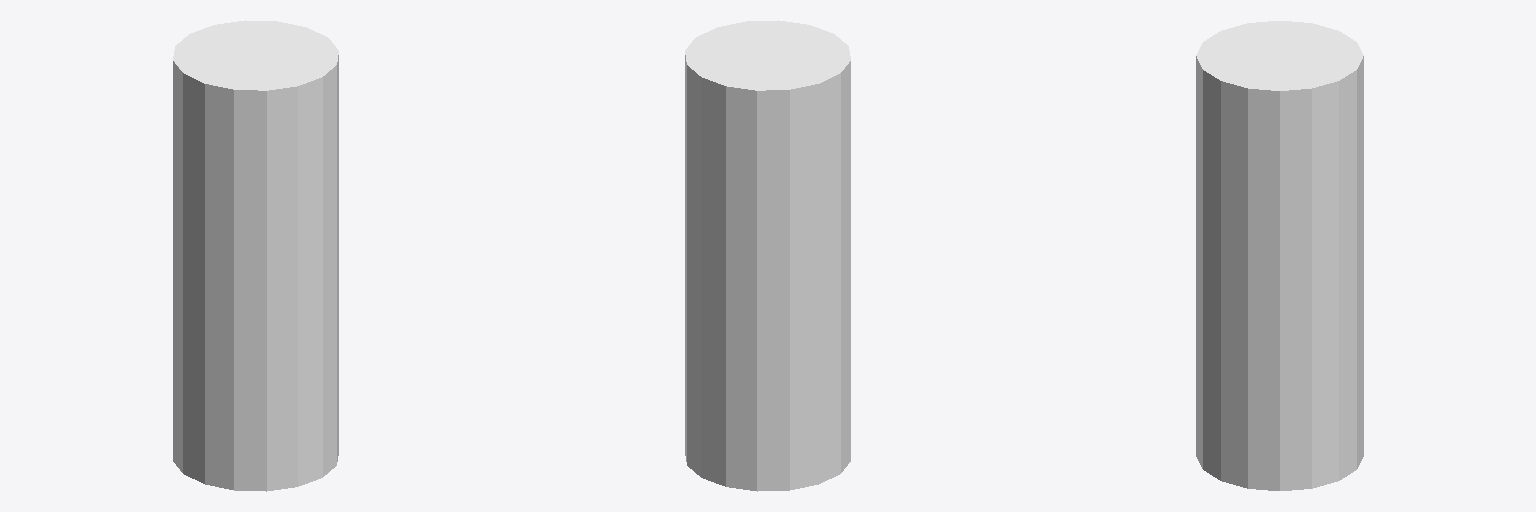
robot.urdf — apple.urdf:
<?xml version="0.0" ?>
<robot name="apple.urdf">
  <link name="baseLink">
    <contact>
      <lateral_friction value="0.3"/>
      <stiffness value="10000.0"/>
    </contact>
    <inertial>
      <origin rpy="0 0 0" xyz="0 0 0"/>
       <mass value="0.1"/>
       <inertia ixx="1" ixy="0" ixz="0" iyy="1" iyz="0" izz="1"/>
    </inertial>
    <visual>
      <origin rpy="0 0 0" xyz="0 0 0"/>
      <geometry>
            <mesh filename="bottle.stl" scale="0.001 0.001 0.001"/>
      </geometry>
       <material name="white">
        <color rgba="1 1 1 1"/>
      </material>
    </visual>
    <collision>
      <origin rpy="0 0 0" xyz="0 0 0"/>
      <geometry>
	 	<mesh filename="bottle.stl" scale="0.001 0.001 0.001"/>
      </geometry>
    </collision>
  </link>  
</robot>

--- Render facts (derived) ---
3 views of the same robot in one strip: view 1: azimuth 30°, elevation 25°; view 2: azimuth 150°, elevation 25°; view 3: azimuth 270°, elevation 25° (orthographic).
Robot: apple.urdf — 1 links, 0 joints (none); root link baseLink; default pose: every joint at zero.
Links seen in each view (by area): view 1: baseLink; view 2: baseLink; view 3: baseLink.
Boxes of the visible links, bbox=[...] form: baseLink: bbox=[173, 20, 338, 491]; baseLink: bbox=[685, 20, 850, 491]; baseLink: bbox=[1196, 21, 1363, 490].
Bounding box of the posed robot: 0.055 × 0.055 × 0.145 m (x, y, z).
Meshes: 1 distinct files referenced, 1 mesh visuals loaded (1 binary STL).